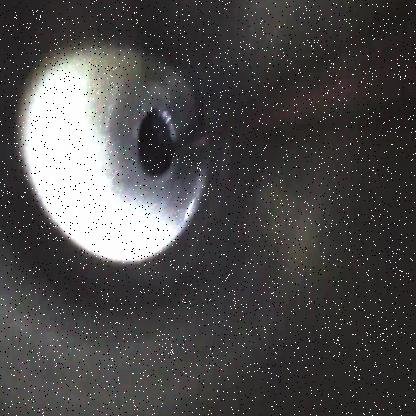NoCrack: (17, 45, 212, 263)
